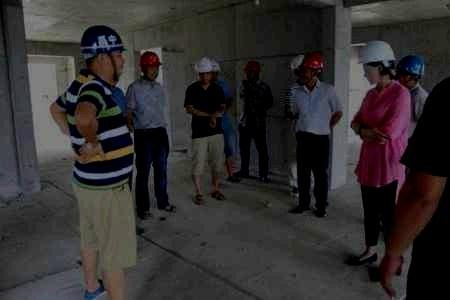helmet: (79, 25, 128, 83), (356, 39, 397, 87), (396, 54, 426, 88), (297, 52, 326, 83), (139, 51, 163, 81), (193, 56, 214, 84), (243, 60, 263, 84), (290, 54, 305, 81), (210, 60, 221, 83)
